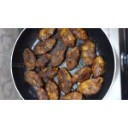seerfish: (75, 75, 105, 95), (21, 70, 44, 88), (81, 39, 96, 66), (57, 25, 76, 45), (58, 66, 72, 93), (66, 48, 81, 70), (22, 47, 36, 69), (34, 39, 57, 52), (46, 78, 59, 100), (50, 46, 65, 65), (93, 55, 104, 77), (72, 28, 89, 41), (39, 67, 59, 78), (37, 27, 55, 38)
